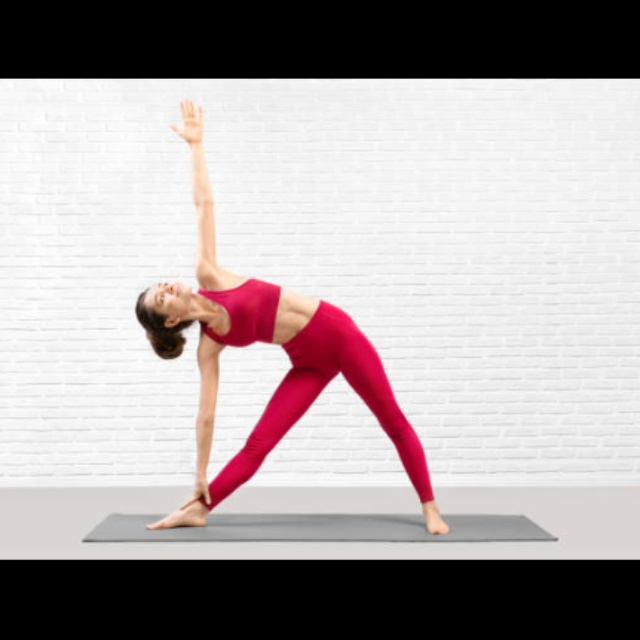Triangle_Pose: (122, 91, 463, 537)
